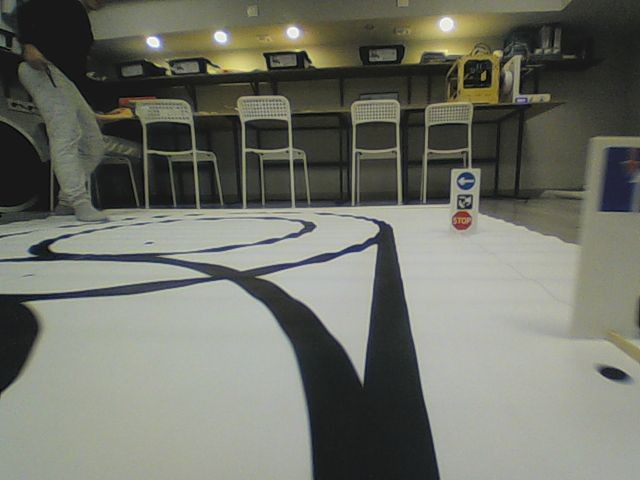Stop: (451, 209, 473, 230)
